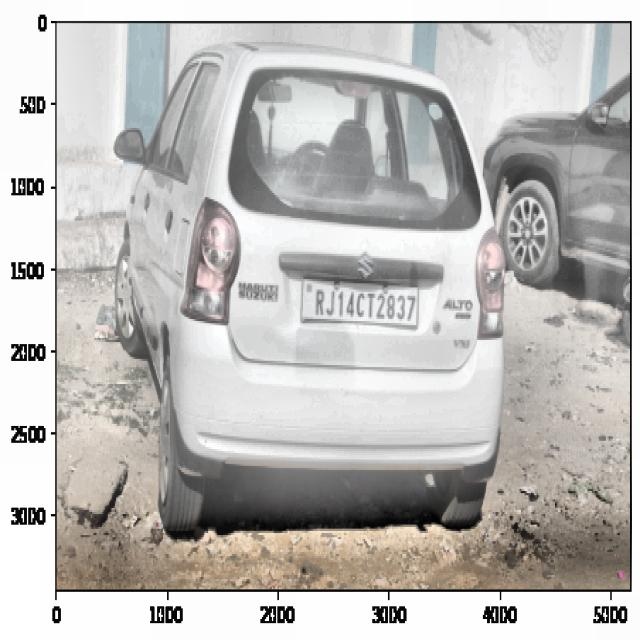license_plate: (311, 284, 422, 330)
